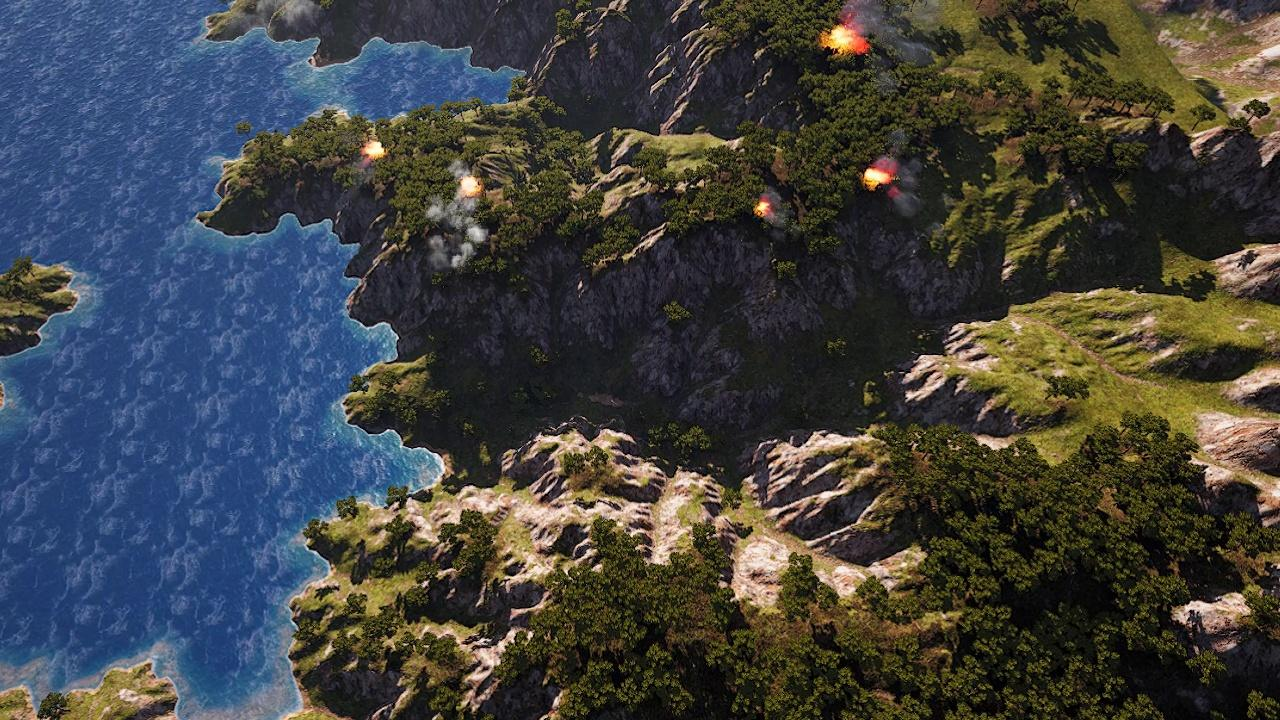fire: (827, 26, 867, 56), (362, 136, 387, 165), (456, 172, 483, 195), (861, 167, 890, 188), (753, 197, 772, 223)
smoke: (416, 160, 489, 277), (839, 0, 925, 65), (879, 141, 932, 228)
